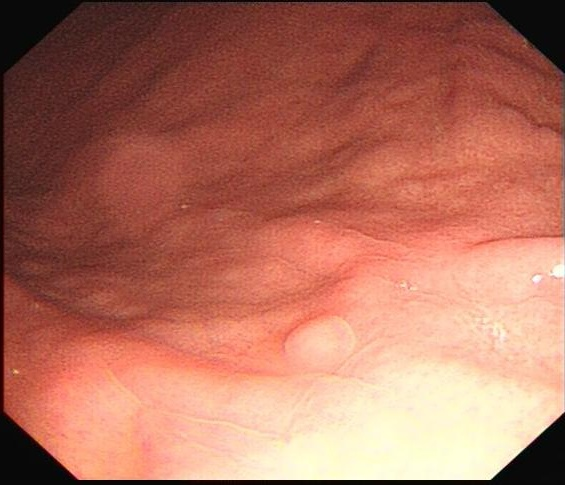Polyp: (268, 306, 363, 381)
